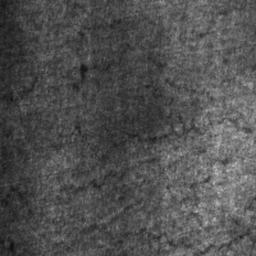Crazing: (0, 3, 253, 256), (48, 120, 89, 153), (7, 237, 36, 256), (98, 116, 112, 133), (217, 157, 233, 167), (235, 22, 251, 27)
